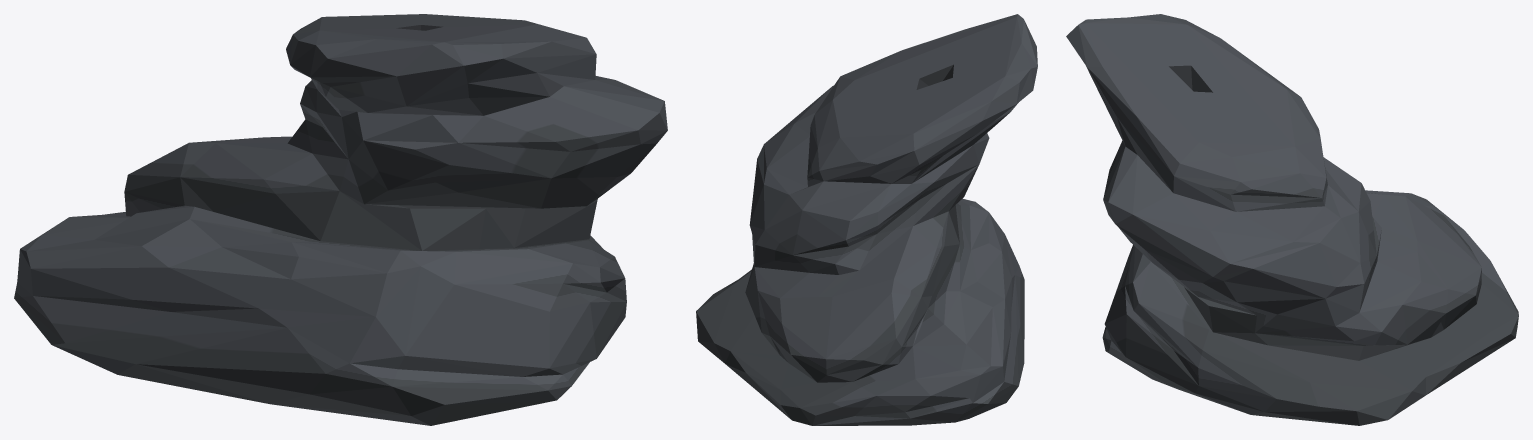
The model's file is SM_Prop_Sword_Stone_01.fbx.
The picture shows the model from 3 angles, left to right: view 1: azimuth 30°, elevation 25°; view 2: azimuth 150°, elevation 25°; view 3: azimuth 270°, elevation 25°; orthographic projection. The views are drawn at different scales.
Visible parts, largest first — view 1: SM_Prop_Sword_Stone_01; view 2: SM_Prop_Sword_Stone_01; view 3: SM_Prop_Sword_Stone_01.
Boxes of the visible parts, <box> form: SM_Prop_Sword_Stone_01: <box>14,14,667,425</box>; SM_Prop_Sword_Stone_01: <box>696,14,1037,425</box>; SM_Prop_Sword_Stone_01: <box>1066,14,1518,425</box>.
Size of the model in its own units: 183 by 145 by 200.
1 material, 1 textured.
